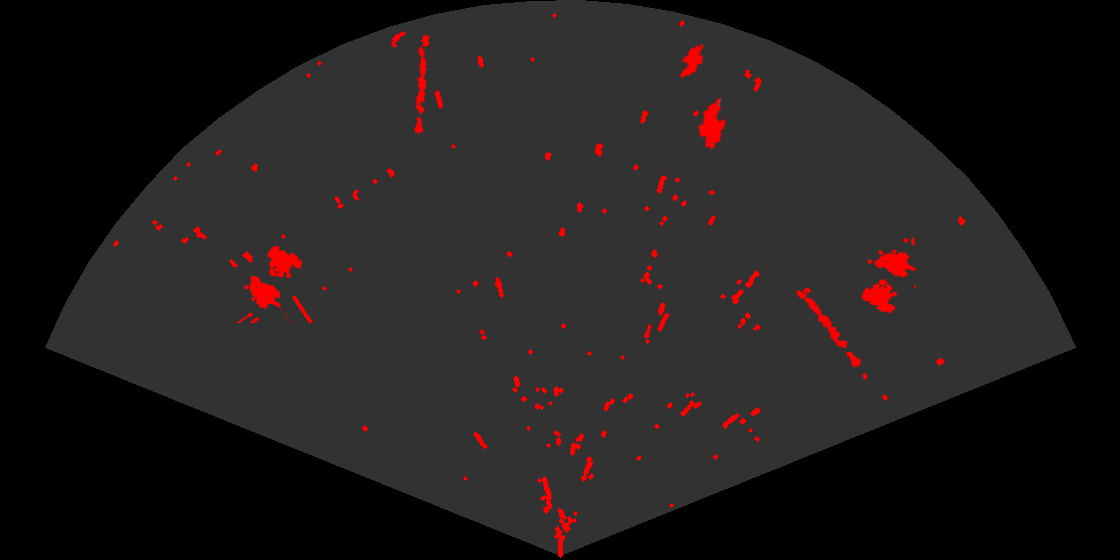AUV: (696, 96, 728, 151), (678, 43, 705, 80)
cage: (235, 245, 315, 323), (860, 238, 916, 315)
chain: (795, 289, 863, 369), (413, 45, 429, 136)
